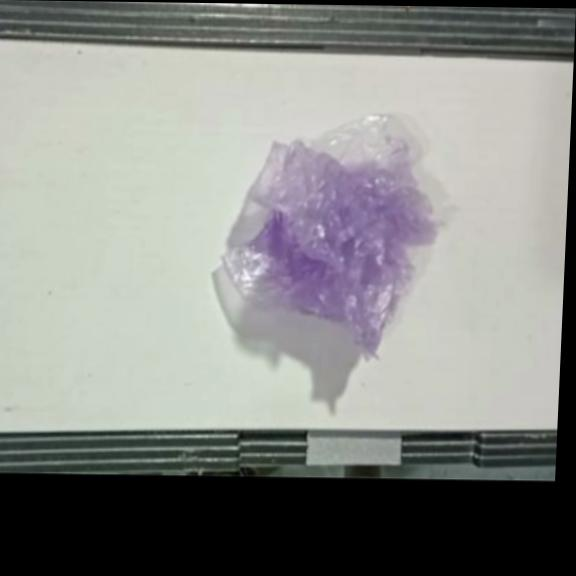Plastik: (216, 112, 447, 363)
